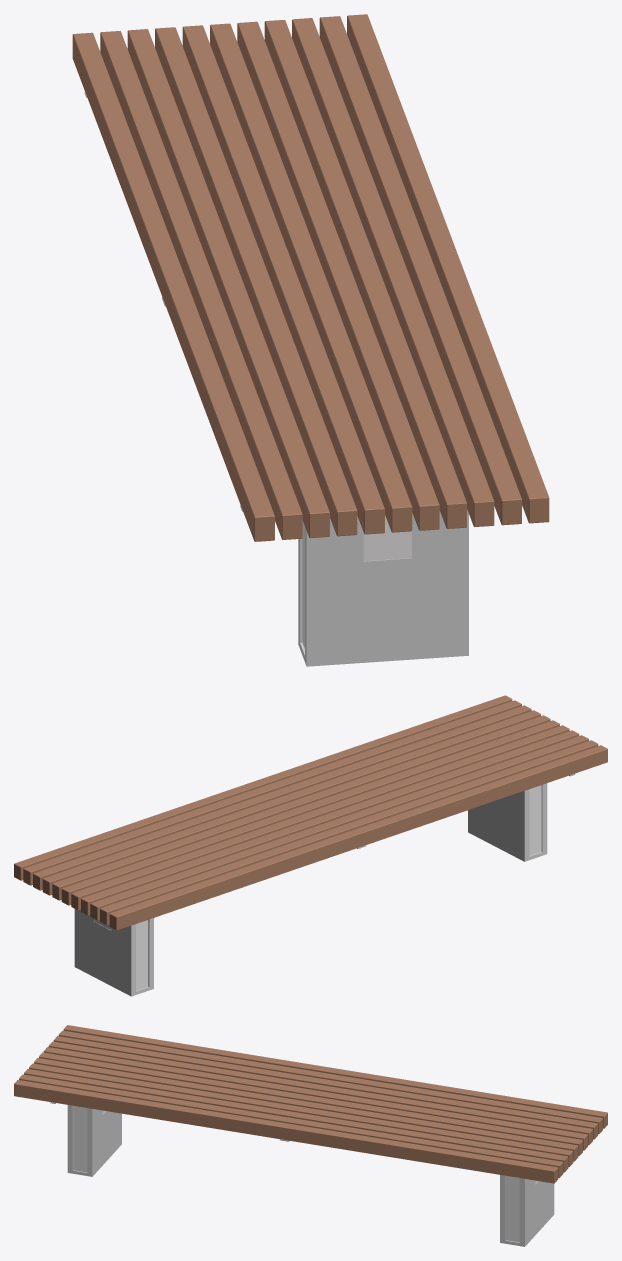
The model's file is lightbank_yafaray.fbx.
The picture shows the model from 3 angles, top to bottom: view 1: azimuth 30°, elevation 25°; view 2: azimuth 150°, elevation 25°; view 3: azimuth 270°, elevation 25°; orthographic projection. The views are drawn at different scales.
Parts seen in each view (by area): view 1: maderas_banco, bancoluz; view 2: maderas_banco, bancoluz; view 3: maderas_banco, bancoluz.
Boxes of the visible parts, box(x1,y1,x2,y2) form: maderas_banco: box(72, 14, 549, 541); bancoluz: box(84, 91, 468, 666); maderas_banco: box(14, 695, 607, 930); bancoluz: box(74, 773, 575, 996); maderas_banco: box(14, 1025, 607, 1183); bancoluz: box(50, 1102, 554, 1246).
Bounding box in the file's own units: 1.51 × 0.4611 × 2.6.
